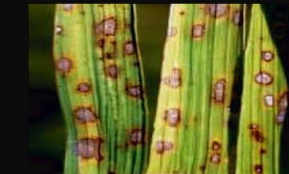Bacterial_Leaf_Blight: (70, 132, 103, 162), (258, 91, 289, 121), (155, 64, 184, 90), (68, 99, 97, 125), (208, 74, 228, 105), (207, 137, 227, 168), (92, 13, 118, 36), (152, 107, 180, 127), (246, 70, 276, 85), (121, 126, 143, 146), (243, 125, 265, 144), (253, 49, 277, 66), (71, 80, 92, 99), (152, 137, 174, 155), (54, 54, 73, 73), (227, 10, 246, 26), (187, 25, 206, 39), (121, 42, 135, 59), (106, 66, 120, 81), (162, 25, 176, 38), (53, 23, 63, 38), (252, 161, 262, 174), (60, 6, 74, 14)
